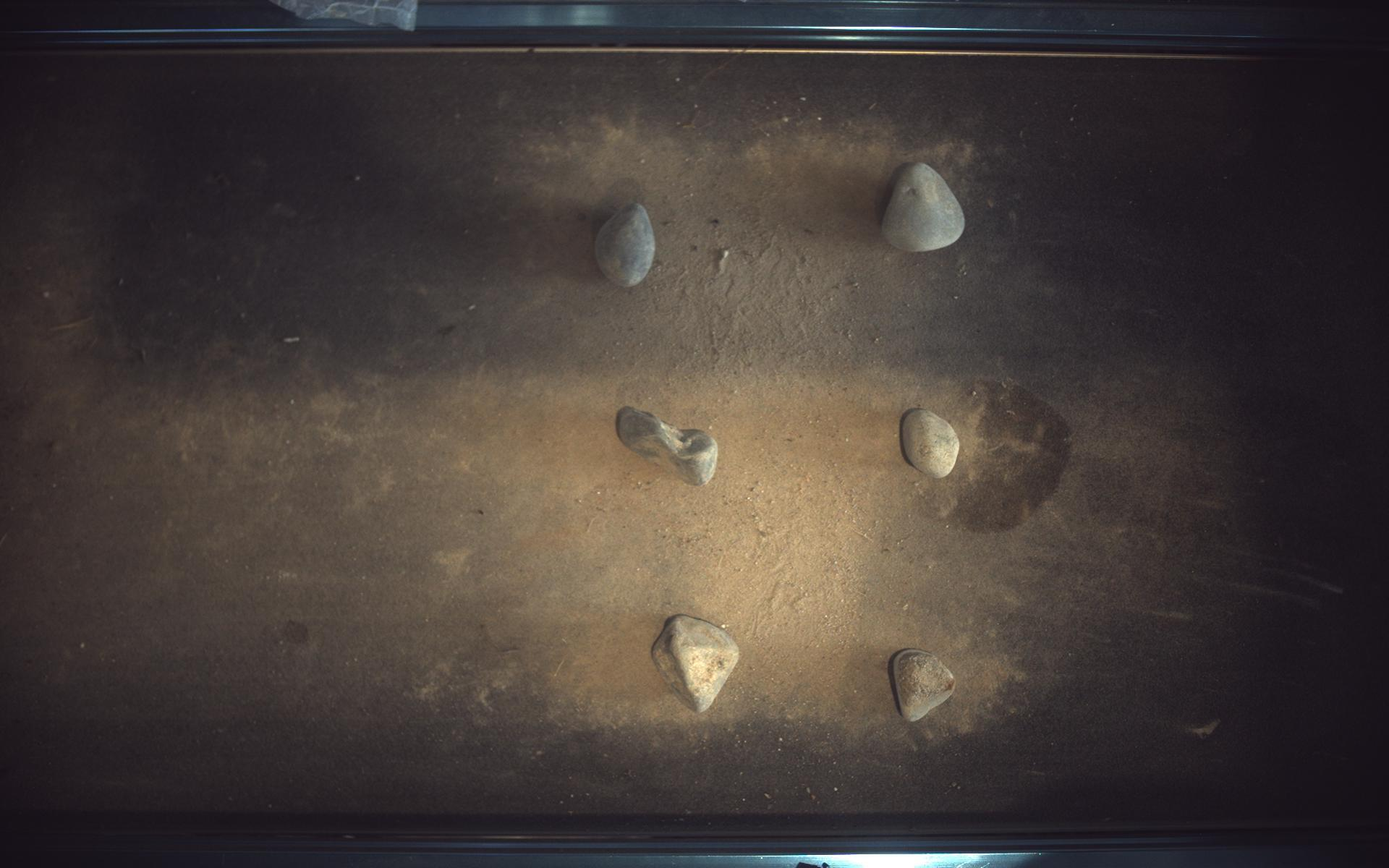stone: (652, 616, 740, 714), (617, 407, 719, 486), (883, 162, 967, 251), (595, 202, 656, 286), (891, 650, 957, 723), (902, 409, 961, 478)
